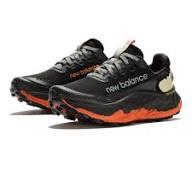NB logo: (100, 69, 160, 95)
